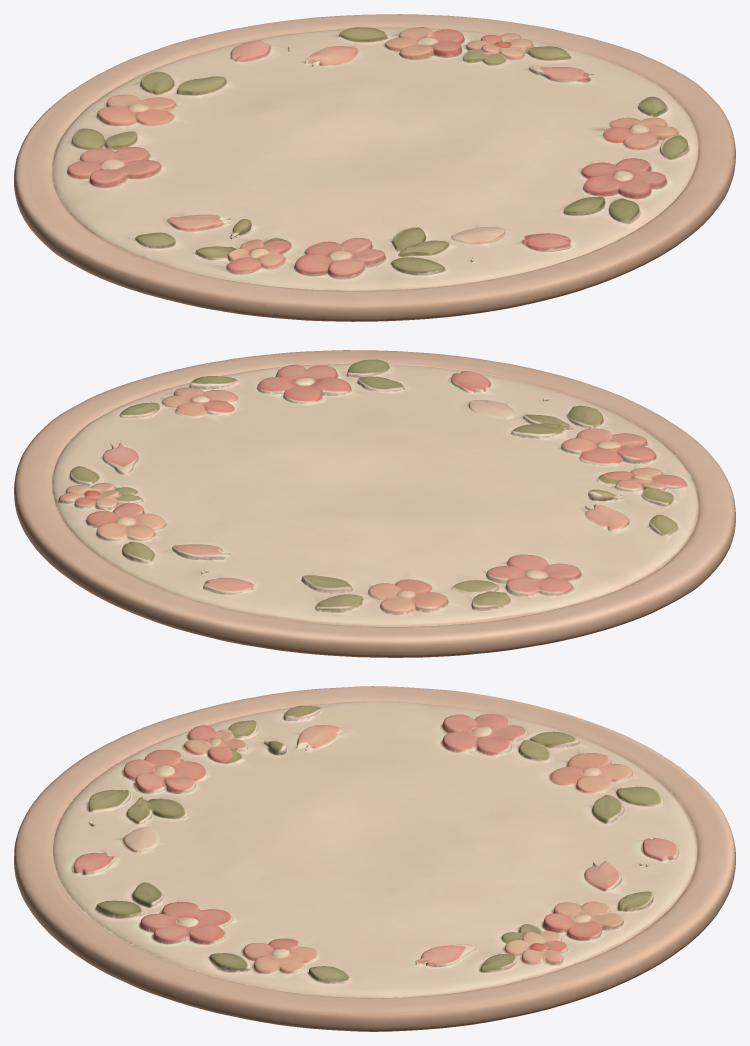
File: rug-95d6eb5fd0fe.glb
3 views of the same model, one above another, from view 1: azimuth 30°, elevation 25°; view 2: azimuth 150°, elevation 25°; view 3: azimuth 270°, elevation 25° (orthographic). The views are drawn at different scales.
Visible parts, largest first — view 1: tripo_node_2489a150-eec5-4eab-814f-00b5eecb18e7; view 2: tripo_node_2489a150-eec5-4eab-814f-00b5eecb18e7; view 3: tripo_node_2489a150-eec5-4eab-814f-00b5eecb18e7.
Part boxes in pixels (x1=…): tripo_node_2489a150-eec5-4eab-814f-00b5eecb18e7: x1=14, y1=14, x2=735, y2=321; tripo_node_2489a150-eec5-4eab-814f-00b5eecb18e7: x1=14, y1=350, x2=735, y2=657; tripo_node_2489a150-eec5-4eab-814f-00b5eecb18e7: x1=14, y1=686, x2=735, y2=1031.
Bounding box in the file's own units: 1 × 0.0515 × 0.9213.
1 material, 1 textured.
